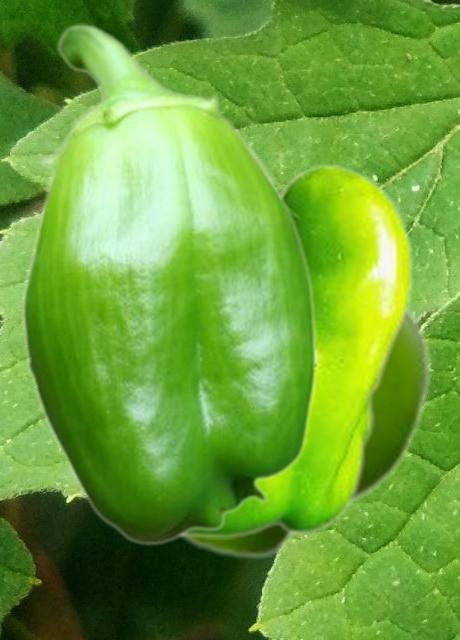bell_pepper: (20, 23, 317, 545), (177, 188, 431, 559), (183, 144, 412, 538)
